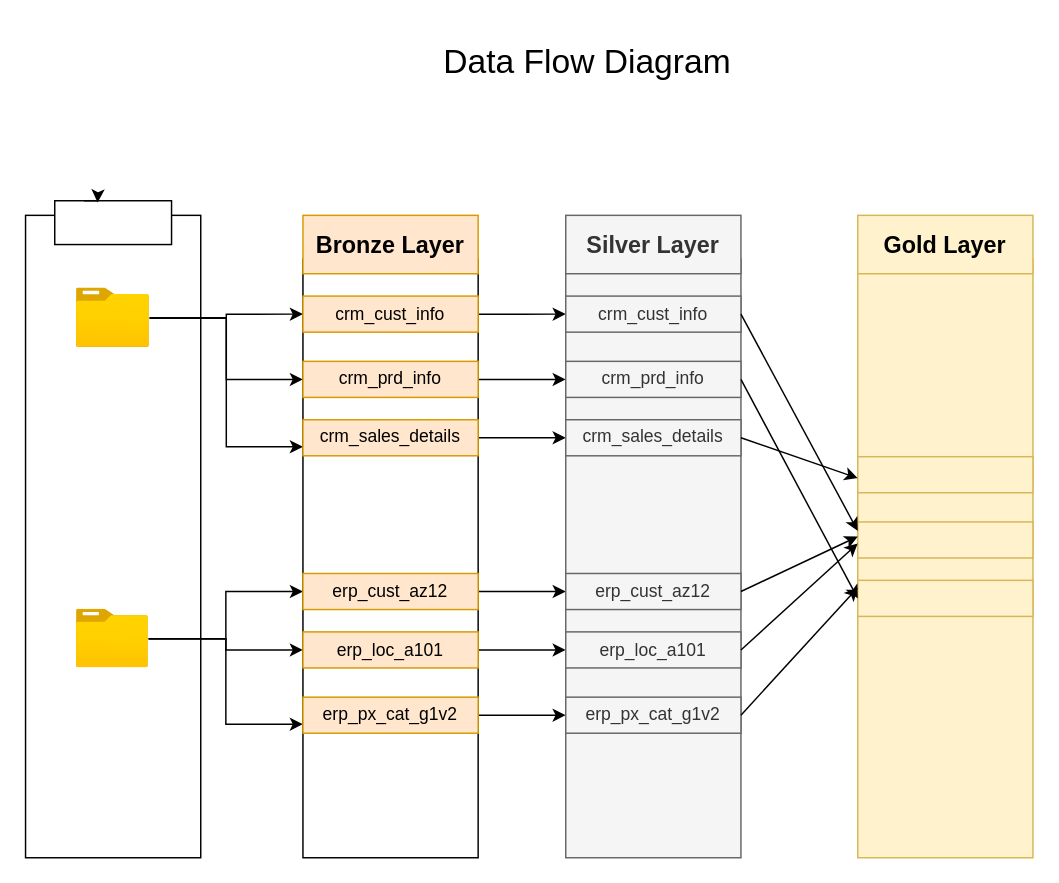
Image size: 1059x883. Some labels were removed from this diagram. The shapes that lost their labels are listed below. From the top down, each one's box as (x1, y1, x2, y2) in pixels, then its label:
(53, 199, 172, 245): Sources
(76, 288, 149, 347): CRM
(856, 455, 1033, 493): facl_sales
(856, 520, 1033, 558): dim_customers
(856, 579, 1033, 616): dim_products
(76, 609, 148, 667): ERP
